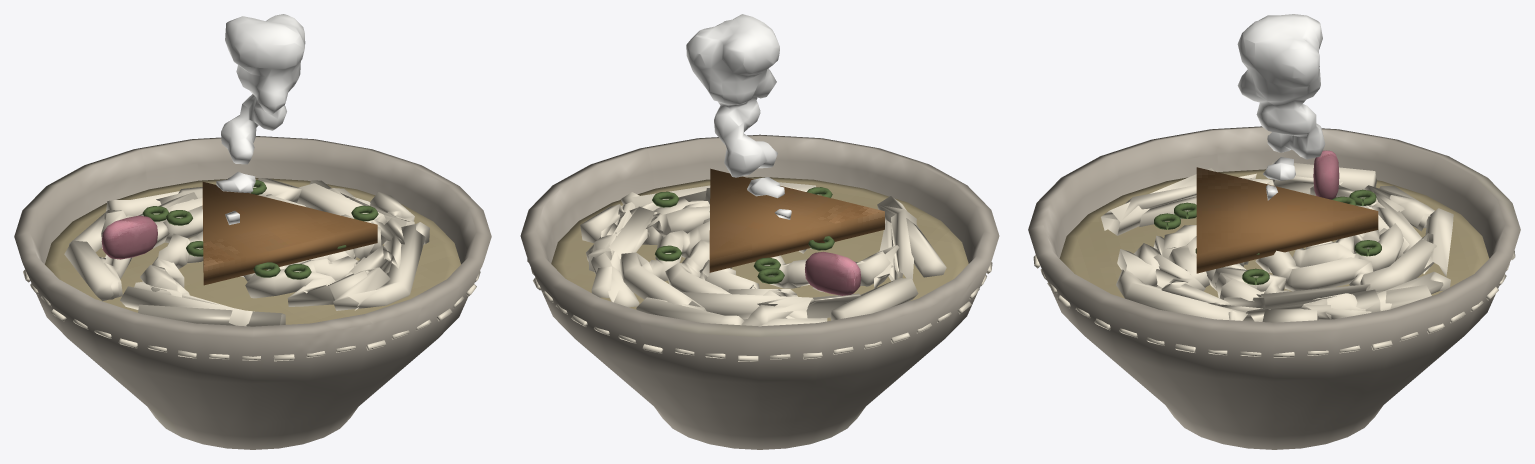
Rendered from udon.glb.
The picture shows the model from 3 angles, left to right: view 1: azimuth 30°, elevation 25°; view 2: azimuth 150°, elevation 25°; view 3: azimuth 270°, elevation 25°; orthographic projection. The views are drawn at different scales.
Parts seen in each view (by area): view 1: udon_felt_cream, udon_yarn_cream, udon_felt_tan, udon_felt_broth_shio, udon_steam5, udon_felt_green, udon_felt_pink, udon_thread; view 2: udon_felt_cream, udon_yarn_cream, udon_felt_tan, udon_steam5, udon_felt_broth_shio, udon_felt_pink, udon_thread, udon_felt_green; view 3: udon_felt_cream, udon_yarn_cream, udon_felt_tan, udon_steam5, udon_felt_broth_shio, udon_felt_green, udon_thread, udon_felt_pink.
Boxes of the visible parts, left/top/right/bottom form: udon_felt_cream: left=14, top=136, right=491, bottom=449; udon_yarn_cream: left=64, top=177, right=429, bottom=326; udon_felt_tan: left=202, top=182, right=377, bottom=285; udon_felt_broth_shio: left=45, top=177, right=460, bottom=324; udon_steam5: left=216, top=14, right=305, bottom=224; udon_felt_green: left=142, top=180, right=378, bottom=279; udon_felt_pink: left=101, top=215, right=157, bottom=259; udon_thread: left=23, top=266, right=482, bottom=361; udon_felt_cream: left=520, top=134, right=999, bottom=449; udon_yarn_cream: left=580, top=182, right=946, bottom=326; udon_felt_tan: left=709, top=168, right=884, bottom=272; udon_steam5: left=686, top=14, right=791, bottom=219; udon_felt_broth_shio: left=551, top=177, right=968, bottom=321; udon_felt_pink: left=805, top=251, right=861, bottom=295; udon_thread: left=527, top=259, right=992, bottom=361; udon_felt_green: left=652, top=187, right=834, bottom=283; udon_felt_cream: left=1028, top=126, right=1520, bottom=449; udon_yarn_cream: left=1101, top=160, right=1453, bottom=322; udon_felt_tan: left=1196, top=167, right=1378, bottom=273; udon_steam5: left=1237, top=14, right=1325, bottom=200; udon_felt_broth_shio: left=1059, top=169, right=1489, bottom=298; udon_felt_green: left=1154, top=189, right=1381, bottom=284; udon_thread: left=1033, top=250, right=1515, bottom=357; udon_felt_pink: left=1313, top=150, right=1339, bottom=199.
Bounding box in the file's own units: 0.285 × 0.251 × 0.285.
Materials: 8 (5 with a texture image).
